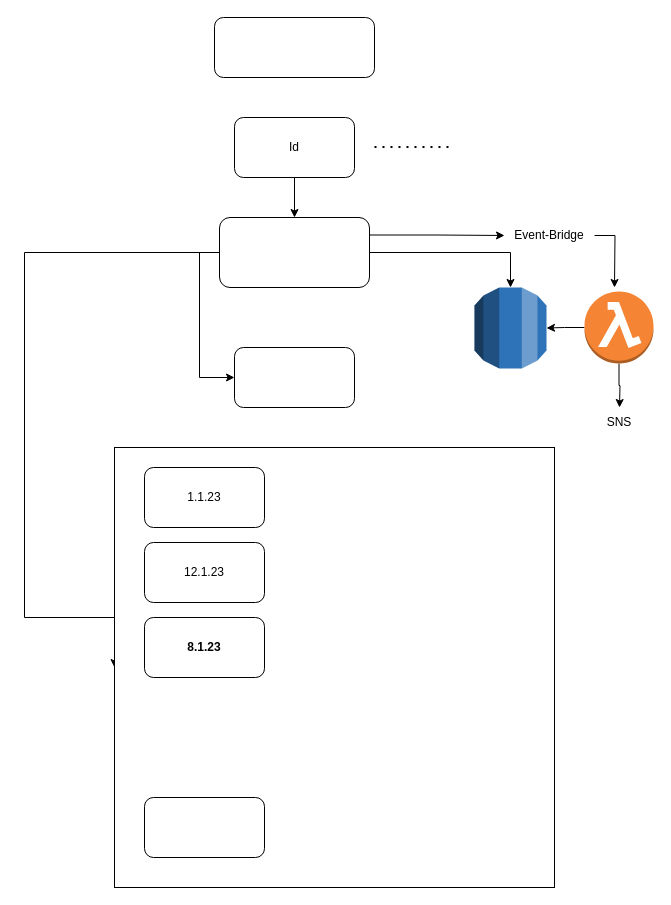
The diagram is 671 pixels wide and 905 high, and some of its shapes have lost their labels. Here are the shapes that lost their labels. From the top down, the box of each, then its label:
(214, 16, 374, 78): PRETERM
(218, 216, 370, 288): Doğum tarihi Kaç haftalık Risk Faktörleri
